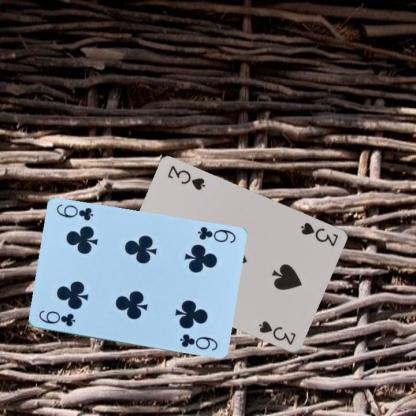3s: (298, 220, 340, 247)
6c: (194, 224, 237, 245), (36, 308, 76, 328)
